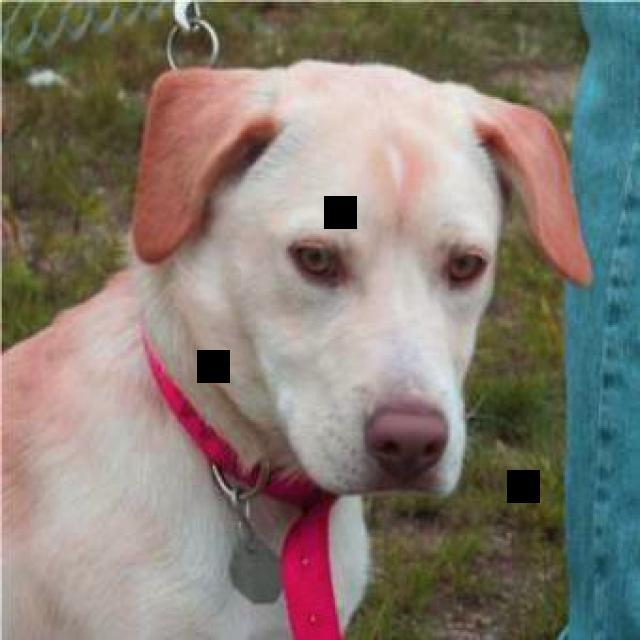adult_dog: (1, 62, 594, 640)
